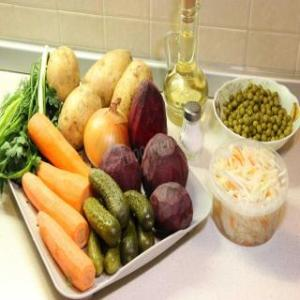beet: (127, 73, 169, 162), (142, 130, 190, 202), (98, 142, 142, 206), (149, 180, 195, 238)
carrot: (19, 169, 89, 249), (33, 205, 95, 292), (27, 111, 94, 185), (32, 154, 92, 216)
cucumber: (86, 164, 128, 226), (80, 194, 122, 245), (122, 186, 158, 232), (85, 224, 103, 276), (119, 217, 137, 269)
onion: (83, 96, 133, 168)
potato: (81, 44, 134, 110), (56, 77, 102, 153), (108, 56, 156, 124), (45, 42, 83, 104)
